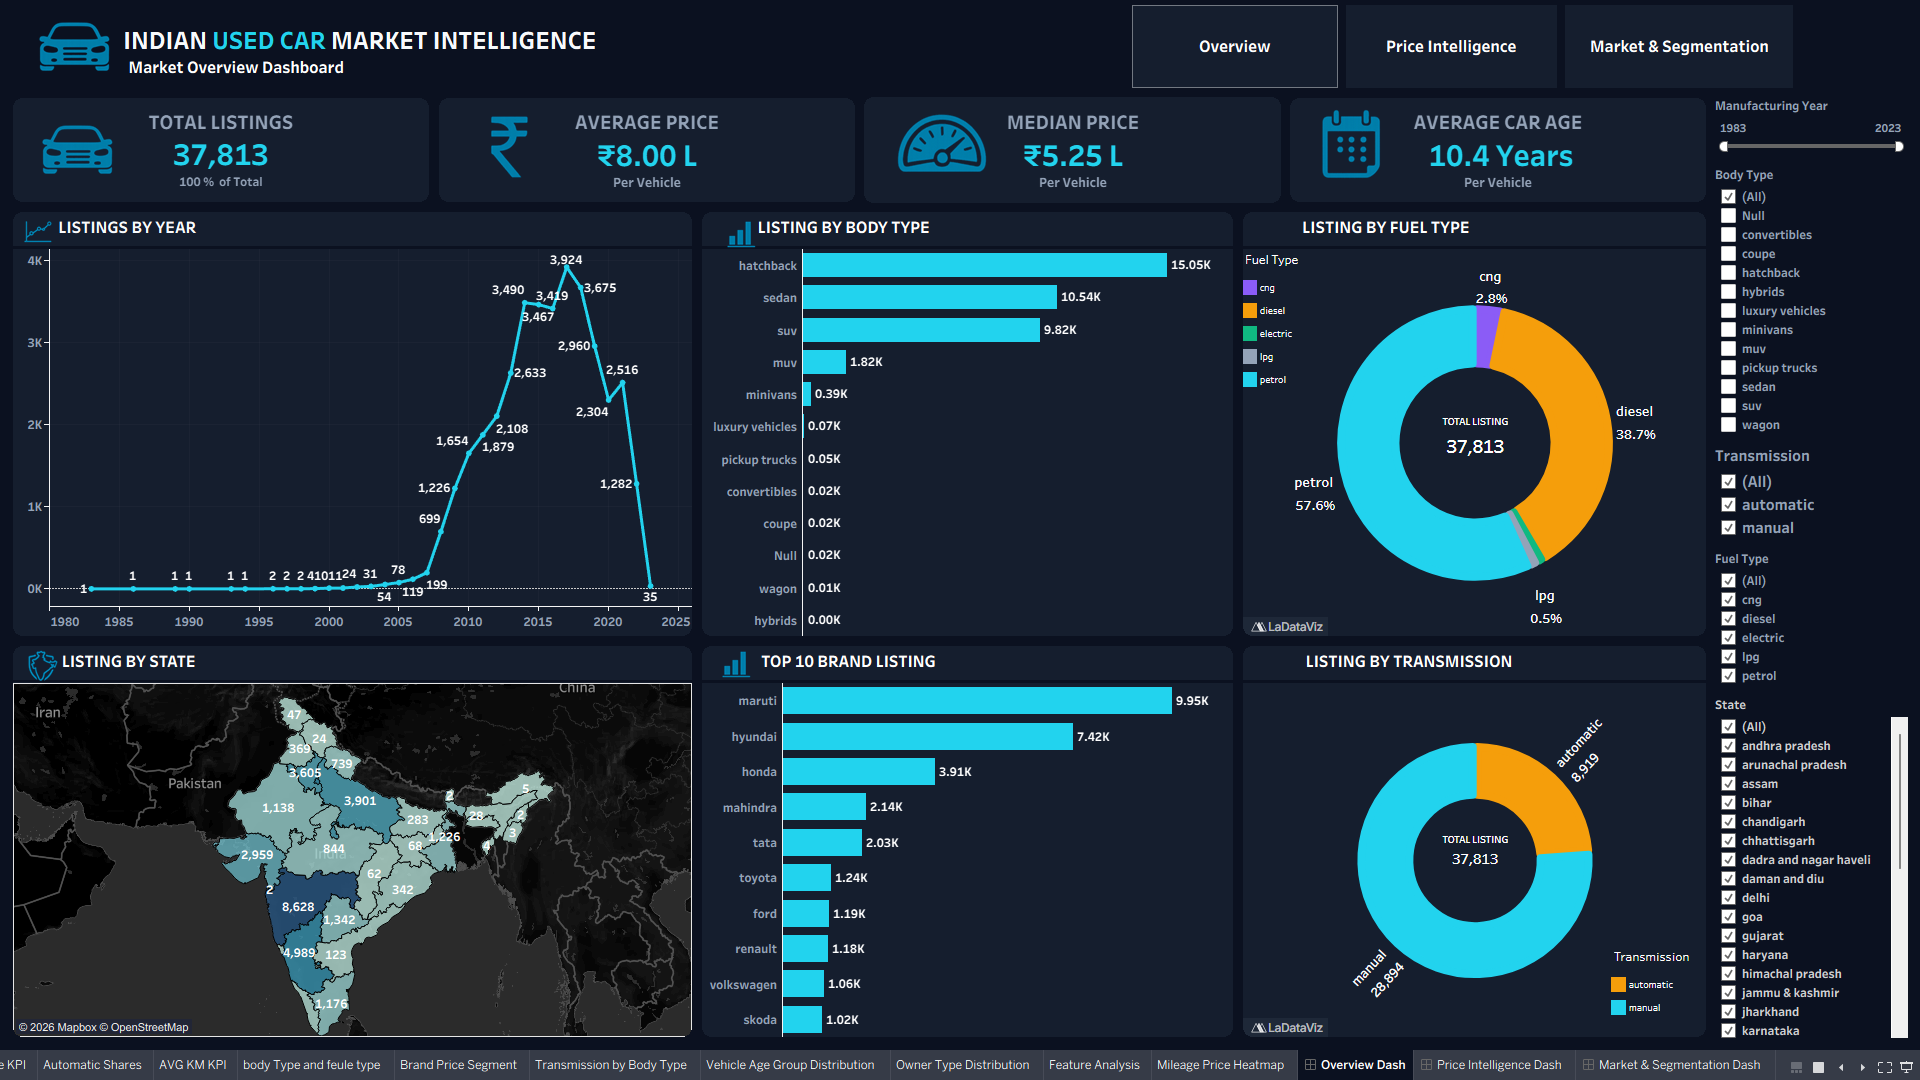

The dashboard page shown, as its layout file describes it:
{"tool":"tableau","page":{"name":"Overview Dash","canvas":[1000,1000],"units":"permille","ordinal":1},"visuals":[{"type":"dashboard-object","box":[587.7,1.1,125.5,87]},{"type":"dashboard-object","box":[713.2,1.1,128.4,87]},{"type":"dashboard-object","box":[841.6,1.1,138.4,87]},{"type":"image","param":"Image/car.png","box":[17,6.7,46.3,80.4]},{"type":"text","box":[4.7,8.9,990.6,80.3]},{"type":"worksheet","title":"Total Listings","mark":"Automatic","box":[4.7,89.2,221.5,109]},{"type":"worksheet","title":"Average Price","mark":"Automatic","box":[226.2,89.2,221.5,109]},{"type":"worksheet","title":"Median Price","mark":"Automatic","box":[447.8,89.2,221.5,109]},{"type":"worksheet","title":"Avg Car Age","mark":"Automatic","box":[669.3,89.2,221.5,109]},{"type":"filter","title":"Listings by Year","param":"[federated.0n80w3h17nfst11f9xo4f0tim0gw].[none:Manufacturing Year:qk]","box":[890.9,89.2,104.4,77]},{"type":"image","param":"Image/Rupee.png","box":[246.9,94.9,45.8,90.4]},{"type":"image","param":"Image/speed.png","box":[466.3,97.1,62.2,88.2]},{"type":"image","param":"Image/calender.png","box":[684.5,100.5,41.1,78.1]},{"type":"image","param":"Image/car.png","box":[18.8,104.9,46.3,80.4]},{"type":"filter","title":"Listing by Body Type","param":"[federated.0n80w3h17nfst11f9xo4f0tim0gw].[none:Body Type:nk]","box":[890.9,166.2,104.4,272.4]},{"type":"worksheet","title":"Listings by Year","mark":"Line","rows":["Car ID"],"cols":["Manufacturing Year"],"box":[4.7,198.3,358.5,412.1]},{"type":"worksheet","title":"Listing by Body Type","mark":"Automatic","rows":["Body Type"],"cols":["Car ID"],"box":[363.2,198.3,281.6,412.1]},{"type":"worksheet","title":"Listings by Fuel Type.","mark":"VizExtension","box":[644.8,198.3,246.1,412.1]},{"type":"image","param":"Image/Line.png","box":[10.5,204.2,22.8,34.6]},{"type":"image","param":"Image/bar.png","box":[376.5,207.6,19.4,32.4]},{"type":"filter","title":"Listings by Transmission","param":"[federated.0n80w3h17nfst11f9xo4f0tim0gw].[none:Transmission:nk]","box":[890.9,438.6,104.4,117.2]},{"type":"filter","title":"Listings by Fuel Type.","param":"[federated.0n80w3h17nfst11f9xo4f0tim0gw].[none:Fuel Type:nk]","box":[890.9,555.8,104.4,163]},{"type":"worksheet","title":"Listings by State","mark":"Automatic","box":[4.7,610.4,358.4,380.7]},{"type":"worksheet","title":"Top  Brand","mark":"Automatic","rows":["Brand"],"cols":["Car ID"],"box":[363.1,610.4,281.7,380.7]},{"type":"worksheet","title":"Listings by Transmission","mark":"VizExtension","box":[644.8,610.4,246.1,380.7]},{"type":"image","param":"Image/map.png","box":[10.5,615,22.8,39.1]},{"type":"image","param":"Image/bar.png","box":[374.2,617.2,19.4,32.4]},{"type":"filter","title":"Listings by State","param":"[federated.0n80w3h17nfst11f9xo4f0tim0gw].[none:State:nk]","box":[890.9,718.7,104.4,272.4]}]}

Visuals, with their boxes on the dashboard's canvas, which has no fixed pixel size, in thousandths of its width and height (x1, y1, x2, y2). These are canvas units, not pixel positions in the 1920x1080 screenshot, which may show the page scaled, cropped or inside an application window:
dashboard-object: left=588, top=1, right=713, bottom=88
dashboard-object: left=713, top=1, right=842, bottom=88
dashboard-object: left=842, top=1, right=980, bottom=88
image: left=17, top=7, right=63, bottom=87
text: left=5, top=9, right=995, bottom=89
"Total Listings" worksheet: left=5, top=89, right=226, bottom=198
"Average Price" worksheet: left=226, top=89, right=448, bottom=198
"Median Price" worksheet: left=448, top=89, right=669, bottom=198
"Avg Car Age" worksheet: left=669, top=89, right=891, bottom=198
"Listings by Year" filter: left=891, top=89, right=995, bottom=166
image: left=247, top=95, right=293, bottom=185
image: left=466, top=97, right=528, bottom=185
image: left=684, top=100, right=726, bottom=179
image: left=19, top=105, right=65, bottom=185
"Listing by Body Type" filter: left=891, top=166, right=995, bottom=439
"Listings by Year" worksheet (Line marks): left=5, top=198, right=363, bottom=610
"Listing by Body Type" worksheet: left=363, top=198, right=645, bottom=610
"Listings by Fuel Type." worksheet (VizExtension marks): left=645, top=198, right=891, bottom=610
image: left=10, top=204, right=33, bottom=239
image: left=376, top=208, right=396, bottom=240
"Listings by Transmission" filter: left=891, top=439, right=995, bottom=556
"Listings by Fuel Type." filter: left=891, top=556, right=995, bottom=719
"Listings by State" worksheet: left=5, top=610, right=363, bottom=991
"Top  Brand" worksheet: left=363, top=610, right=645, bottom=991
"Listings by Transmission" worksheet (VizExtension marks): left=645, top=610, right=891, bottom=991
image: left=10, top=615, right=33, bottom=654
image: left=374, top=617, right=394, bottom=650
"Listings by State" filter: left=891, top=719, right=995, bottom=991
